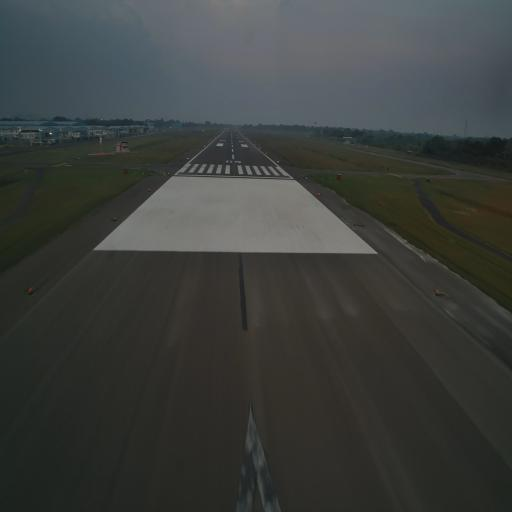on: (27, 284, 34, 294), (434, 286, 440, 296), (113, 212, 117, 222), (352, 219, 357, 226), (148, 185, 152, 192), (317, 191, 321, 197)
